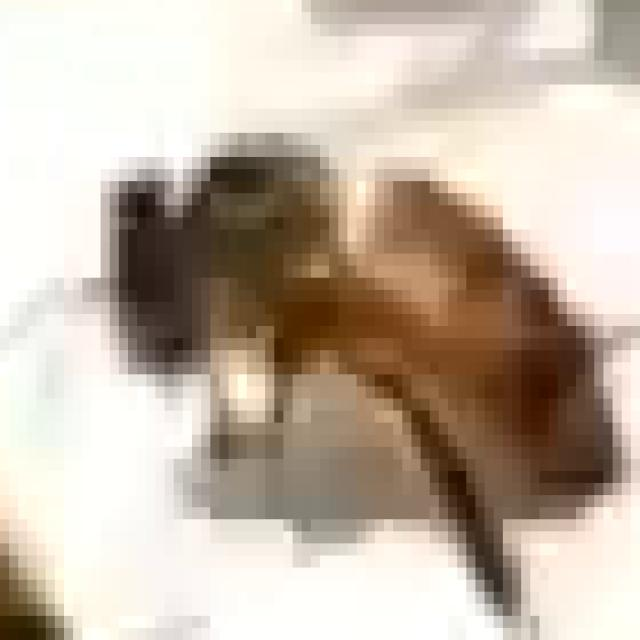honeybee: (84, 144, 619, 567)
